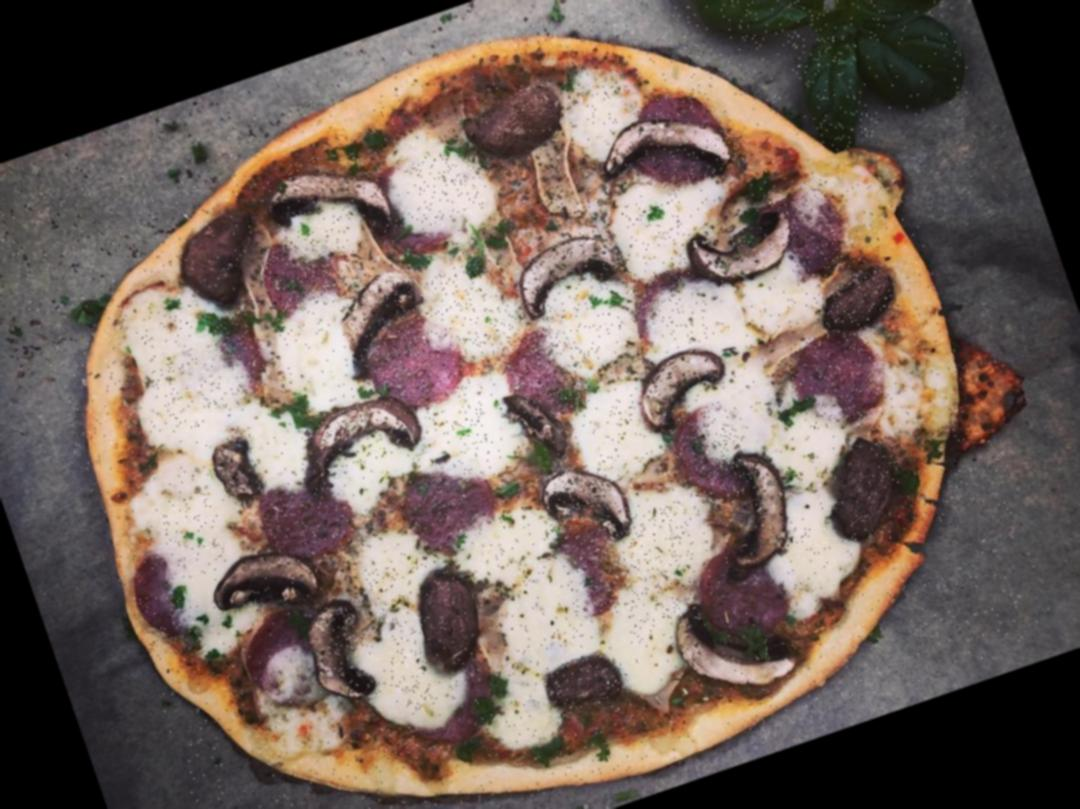Basil: (846, 9, 980, 133), (786, 15, 878, 156), (647, 0, 834, 64), (820, 0, 972, 45)
Cheese: (593, 498, 726, 646), (484, 524, 592, 662), (135, 298, 234, 433), (360, 559, 441, 715), (146, 467, 230, 582), (426, 255, 520, 357), (545, 280, 633, 369), (398, 144, 485, 230), (276, 315, 353, 399), (707, 380, 786, 450), (770, 517, 844, 591), (655, 281, 732, 351), (434, 396, 502, 469), (734, 272, 807, 338), (622, 190, 692, 253), (586, 395, 647, 456), (578, 78, 632, 132)
Mushroom: (662, 575, 805, 710), (262, 145, 401, 266), (590, 96, 736, 207), (804, 425, 918, 552), (704, 441, 810, 575), (507, 223, 638, 322), (623, 338, 744, 444), (326, 263, 440, 373), (294, 385, 426, 479), (203, 532, 331, 628), (683, 198, 806, 296), (458, 74, 580, 168), (536, 452, 642, 560), (296, 592, 388, 712), (405, 558, 496, 674), (806, 260, 906, 339), (494, 378, 574, 468), (540, 644, 632, 720), (204, 428, 272, 510)
Pepperoni: (390, 446, 515, 564), (622, 75, 745, 194), (232, 600, 345, 726), (776, 319, 896, 435), (688, 536, 804, 654), (253, 464, 370, 578), (358, 304, 476, 416), (491, 319, 591, 426), (768, 172, 862, 284), (664, 399, 756, 510), (254, 223, 356, 322), (549, 512, 633, 625), (120, 541, 202, 656), (617, 251, 710, 338), (209, 306, 278, 396)
Pizza: (0, 0, 1059, 809)
